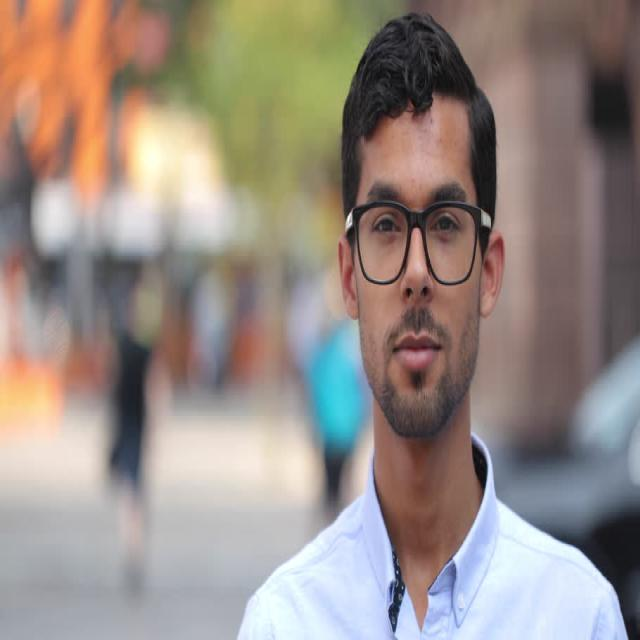human: (235, 6, 631, 640)
